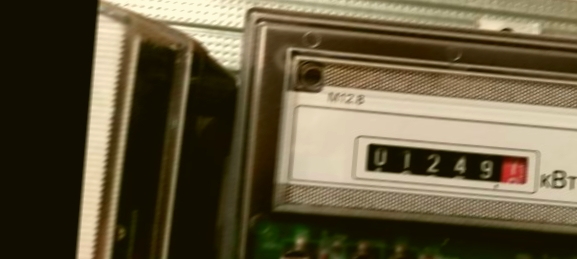0: (372, 147, 387, 168)
1: (398, 149, 412, 171)
2: (423, 152, 441, 175)
4: (452, 155, 467, 176)
7: (506, 156, 521, 177)
9: (478, 159, 493, 181)
screen: (348, 132, 543, 198)
